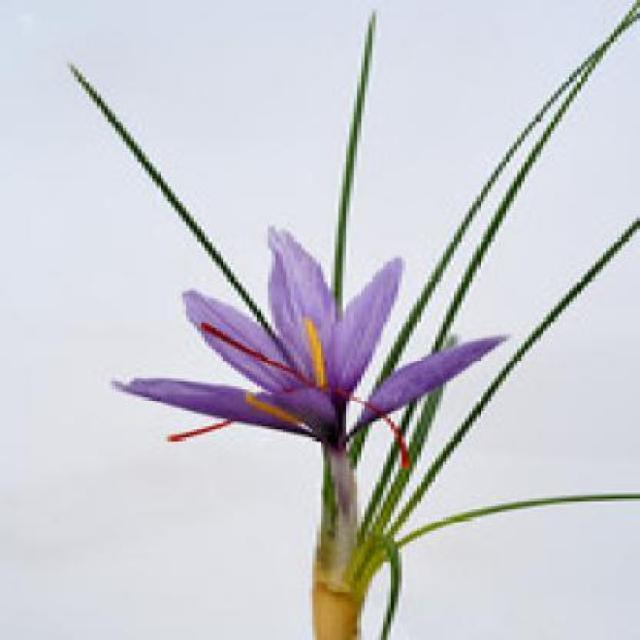Flower: (108, 216, 517, 456)
stigma: (328, 378, 428, 472), (197, 318, 313, 384), (166, 418, 240, 454)
